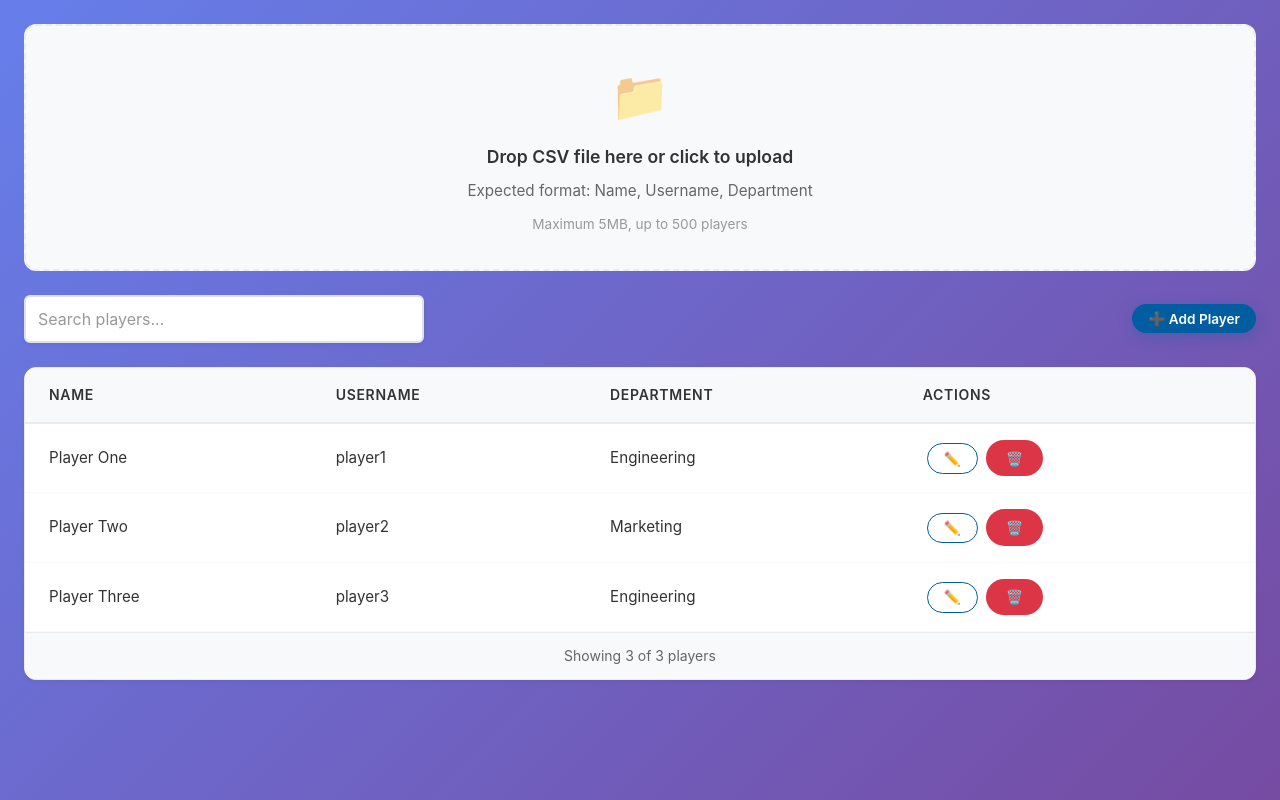
PlayerManagement Component › Add Player › should show add player row when button clicked
Click the button "➕ Add Player" at x=1194, y=319, box [1132,304,1256,333]
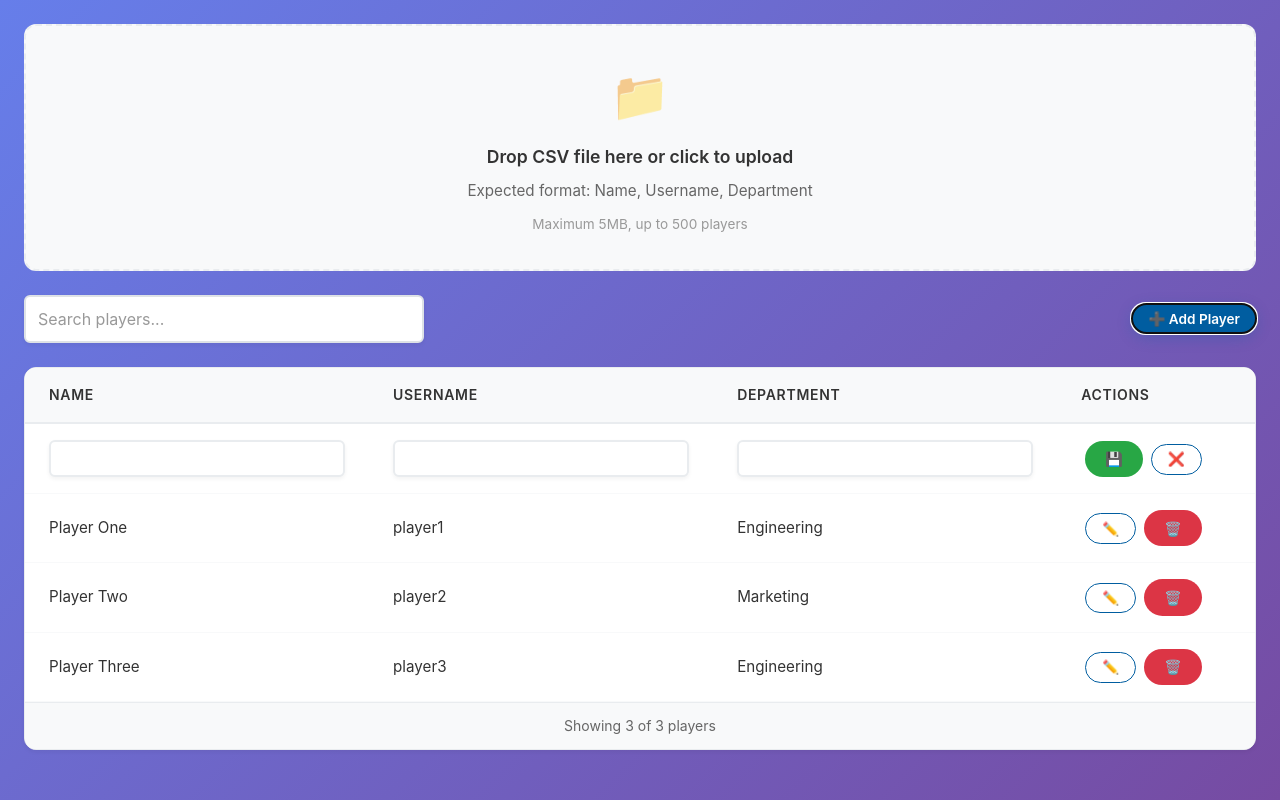
Expected: the button with class "btn-success" is shown, [1085,441,1143,477]
